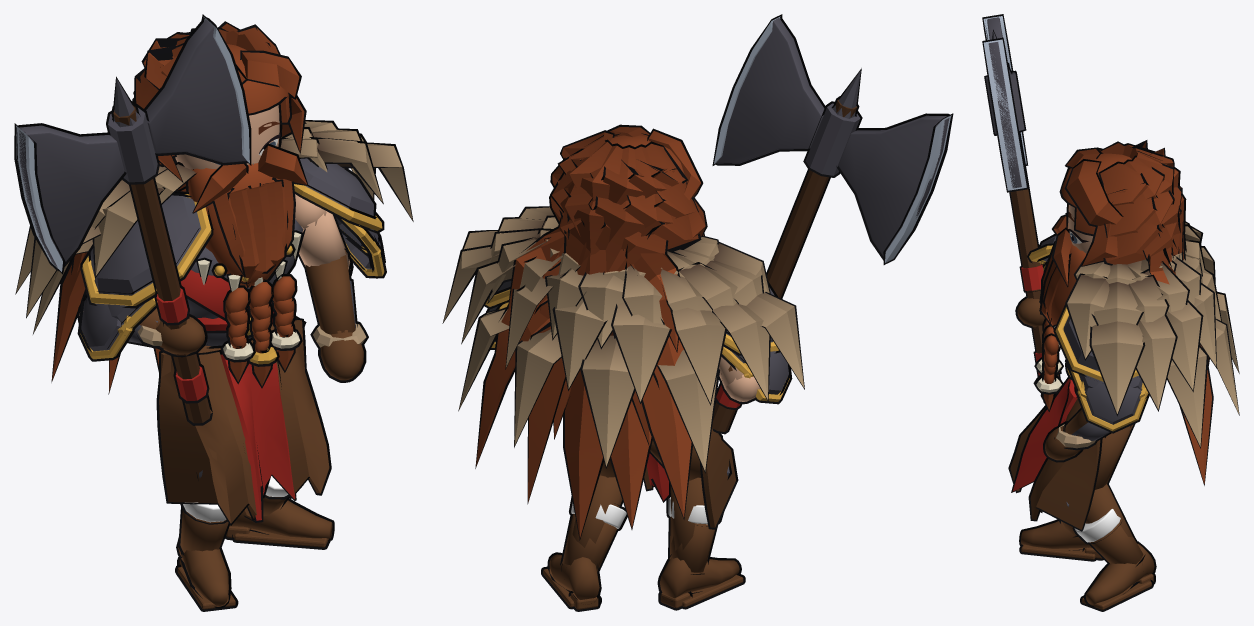
The model's file is dreg.glb.
3 renders of one model, left to right at view 1: azimuth 30°, elevation 25°; view 2: azimuth 150°, elevation 25°; view 3: azimuth 270°, elevation 25°, orthographic. The views are drawn at different scales.
Visible parts, largest first — view 1: fore_r, head, hips, torso, arm_r, arm_l, head_ink, fore_r_ink, fore_l, shin_r, shin_l, torso_ink (+6 smaller); view 2: torso, head, fore_r, shin_r, torso_ink, shin_l, head_ink, fore_r_ink, hips, arm_r, shin_r_ink, shin_l_ink; view 3: torso, head, fore_r, hips, shin_l, head_ink, arm_l, torso_ink, fore_r_ink, shin_r, fore_l, hips_ink (+5 smaller).
Part boxes in pixels (left/top/right/bottom): fore_r: left=16, top=16, right=249, bottom=423; head: left=52, top=23, right=307, bottom=392; hips: left=159, top=320, right=329, bottom=523; torso: left=16, top=121, right=412, bottom=346; arm_r: left=79, top=194, right=211, bottom=359; arm_l: left=294, top=158, right=384, bottom=276; head_ink: left=51, top=21, right=308, bottom=394; fore_r_ink: left=14, top=14, right=251, bottom=425; fore_l: left=305, top=248, right=366, bottom=380; shin_r: left=177, top=470, right=235, bottom=609; shin_l: left=226, top=476, right=332, bottom=547; torso_ink: left=15, top=120, right=413, bottom=348; torso: left=443, top=207, right=804, bottom=471; head: left=476, top=127, right=705, bottom=538; fore_r: left=712, top=16, right=951, bottom=431; shin_r: left=660, top=466, right=743, bottom=608; torso_ink: left=442, top=206, right=804, bottom=473; shin_l: left=543, top=475, right=626, bottom=609; head_ink: left=475, top=124, right=707, bottom=540; fore_r_ink: left=712, top=14, right=953, bottom=434; hips: left=644, top=428, right=735, bottom=527; arm_r: left=719, top=287, right=789, bottom=401; shin_r_ink: left=657, top=459, right=745, bottom=610; shin_l_ink: left=541, top=496, right=627, bottom=611; torso: left=1054, top=223, right=1238, bottom=446; head: left=1036, top=142, right=1211, bottom=483; fore_r: left=983, top=16, right=1059, bottom=376; hips: left=1010, top=378, right=1100, bottom=529; shin_l: left=1066, top=484, right=1154, bottom=609; head_ink: left=1033, top=140, right=1213, bottom=485; arm_l: left=1055, top=307, right=1148, bottom=431; torso_ink: left=1049, top=213, right=1239, bottom=448; fore_r_ink: left=982, top=14, right=1061, bottom=402; shin_r: left=1021, top=521, right=1102, bottom=559; fore_l: left=1045, top=409, right=1109, bottom=460; hips_ink: left=1008, top=377, right=1102, bottom=531.
Size of the model in its own units: 1.17 by 1.46 by 0.6804.
